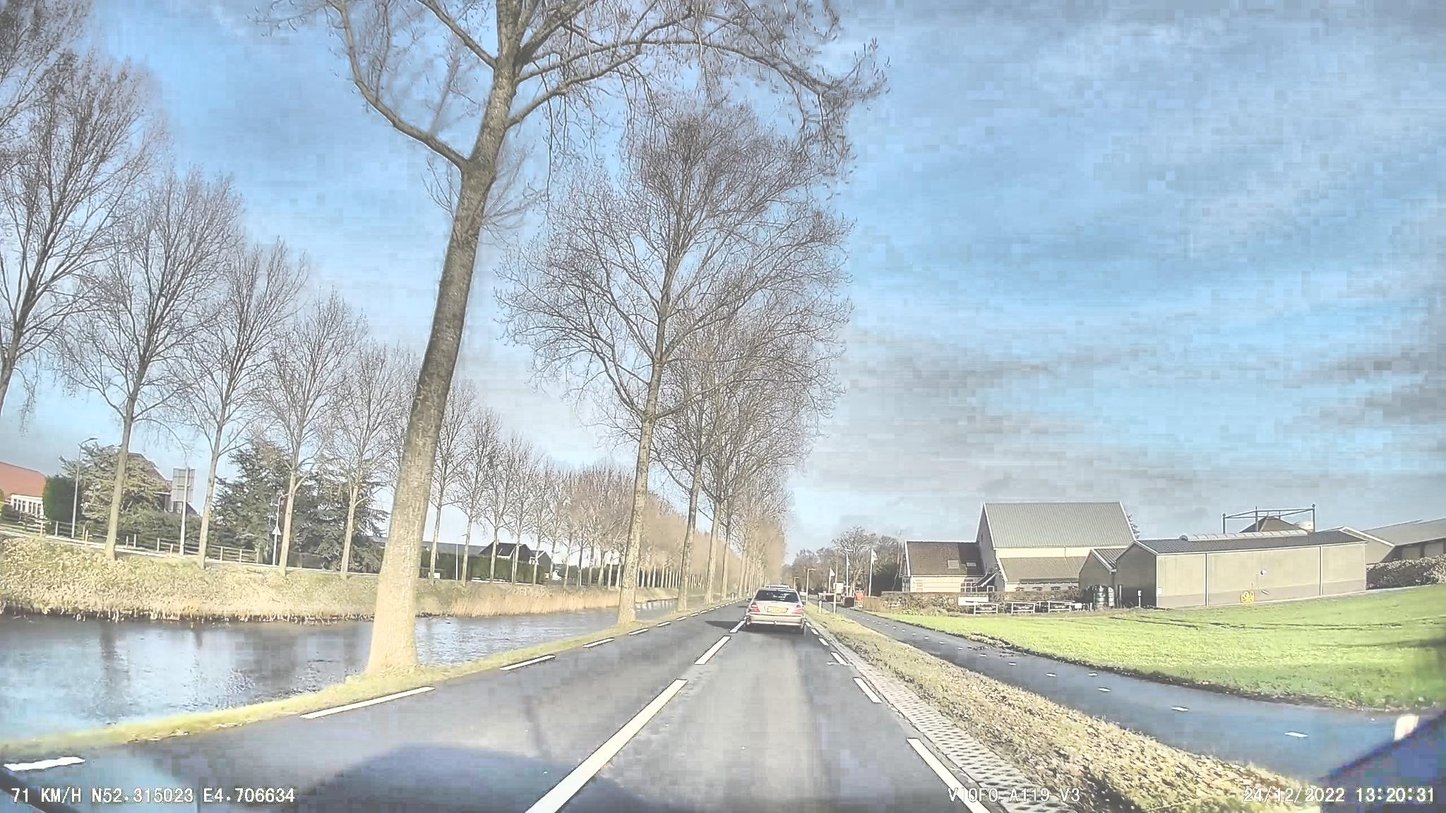Roads: (0, 612, 972, 813)
